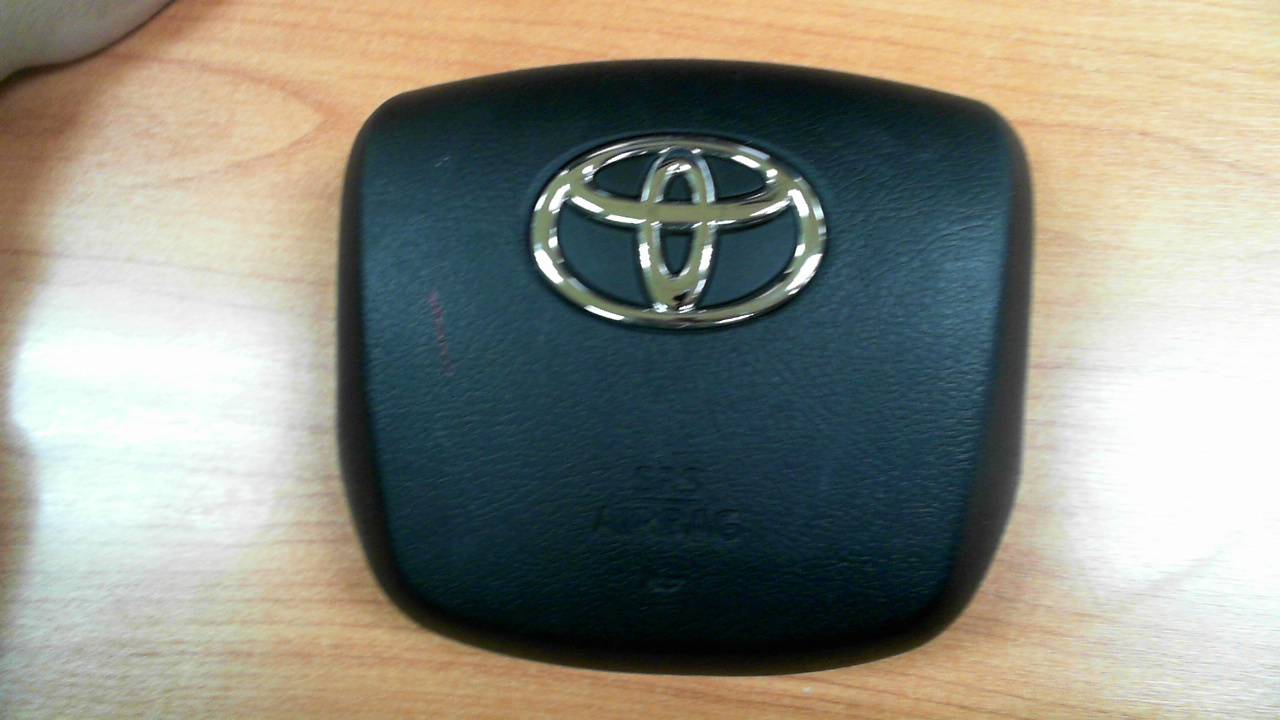Airbag: (335, 57, 1035, 678)
Toyota: (530, 135, 827, 329)
